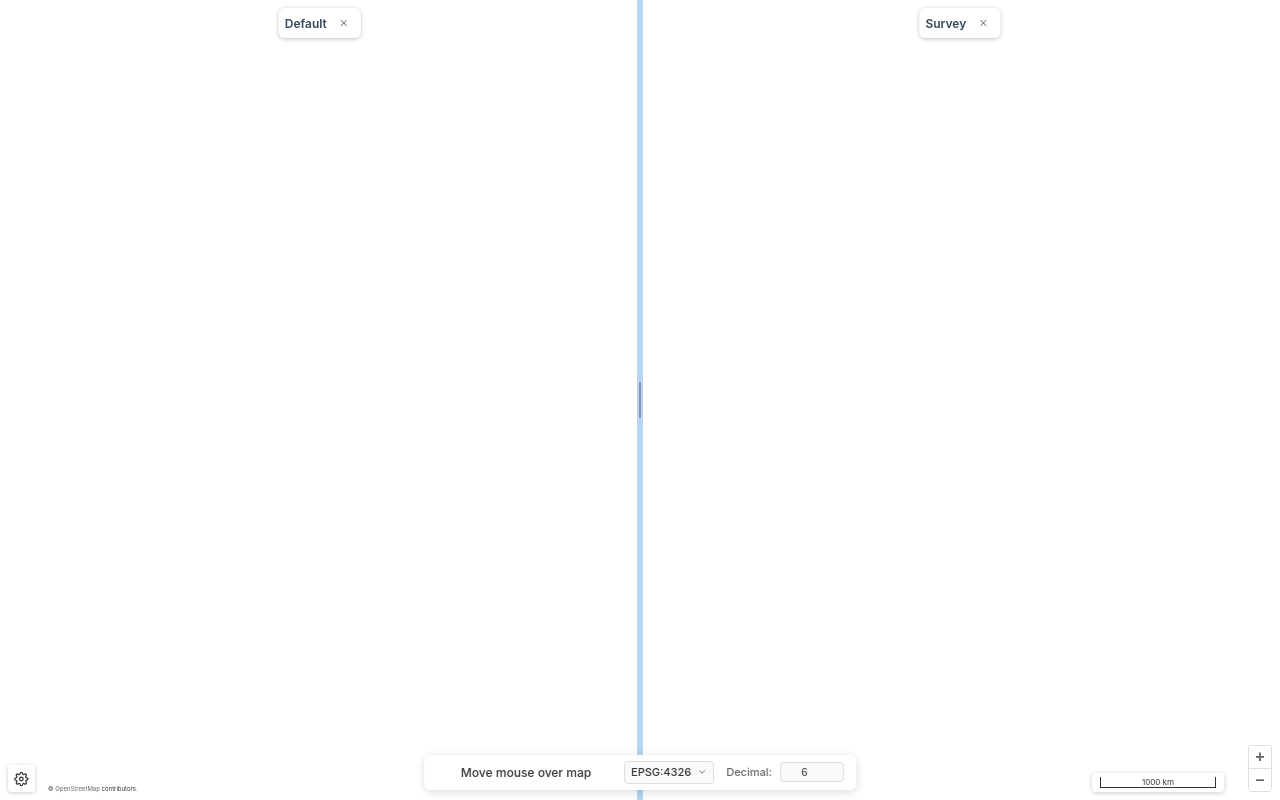
Test: split base settings toggles update the URL only — workspaces untouched
Click the button named "Split view settings" at (21, 779), box [8,765,35,792]
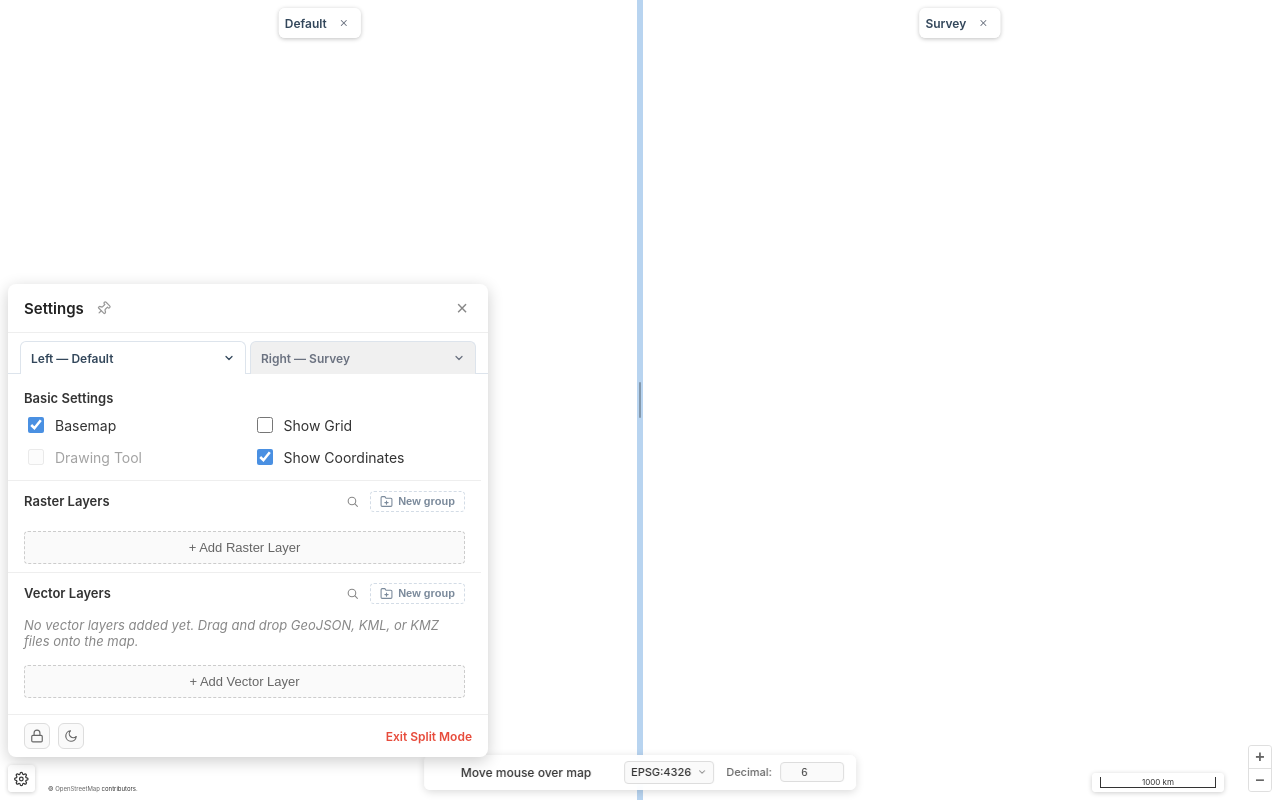
Click the checkbox with id "basemap-toggle" at (36, 425), box [28,417,44,433]
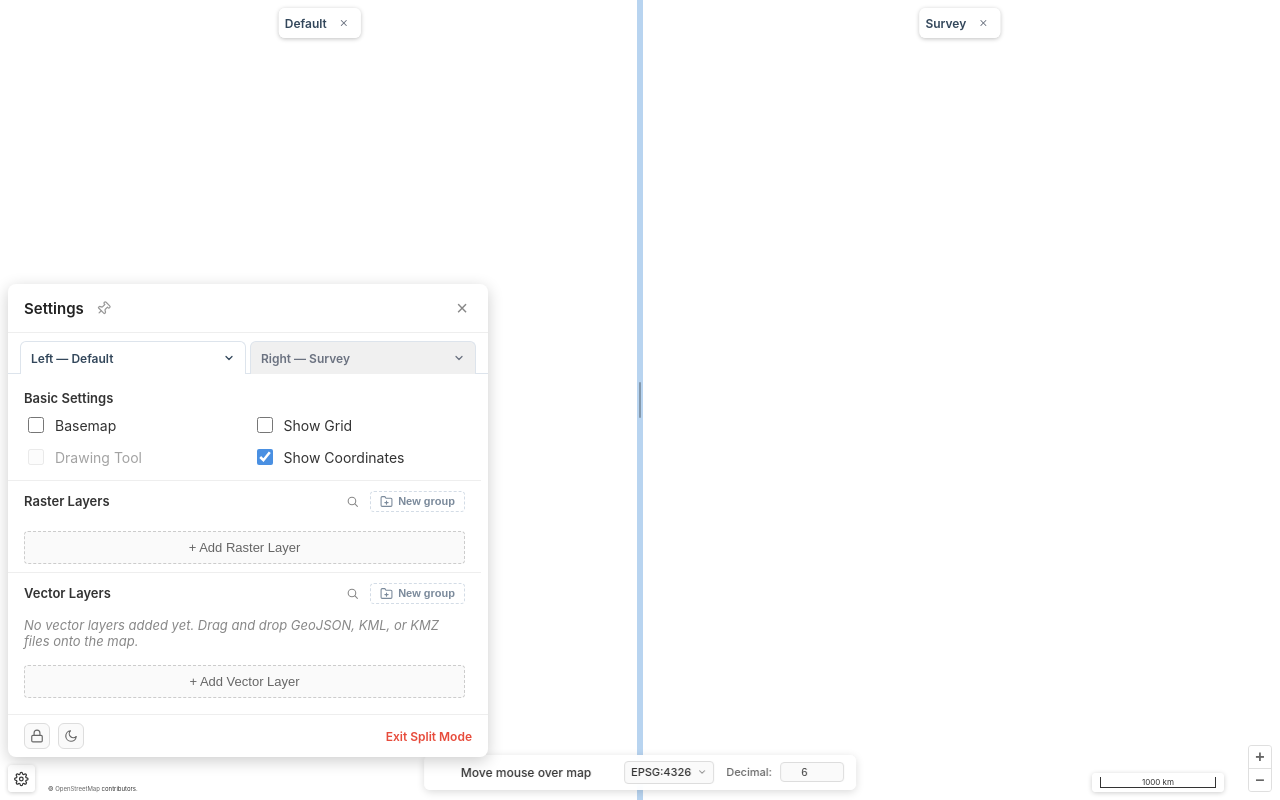
Click the checkbox with id "grid-toggle" at (264, 425), box [256,417,272,433]
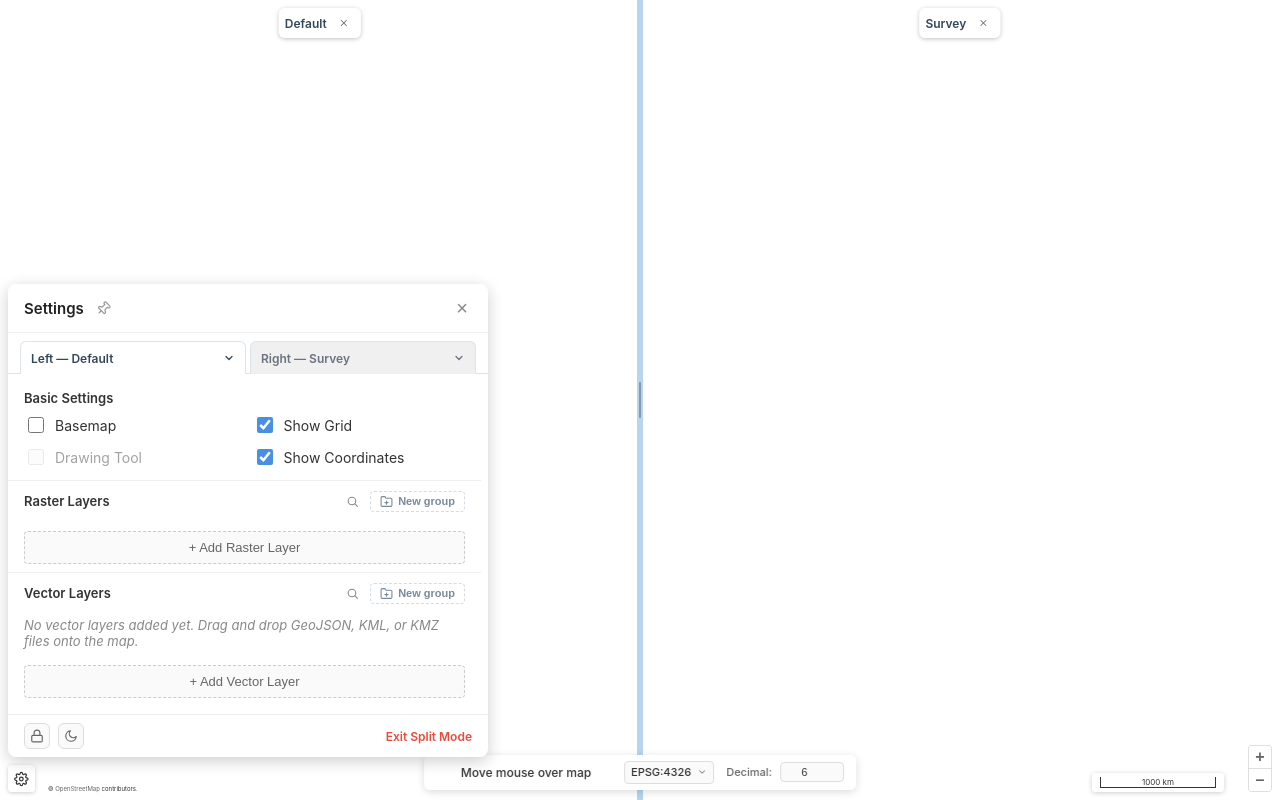
Click the checkbox with id "coordinates-toggle" at (264, 457), box [256,449,272,465]
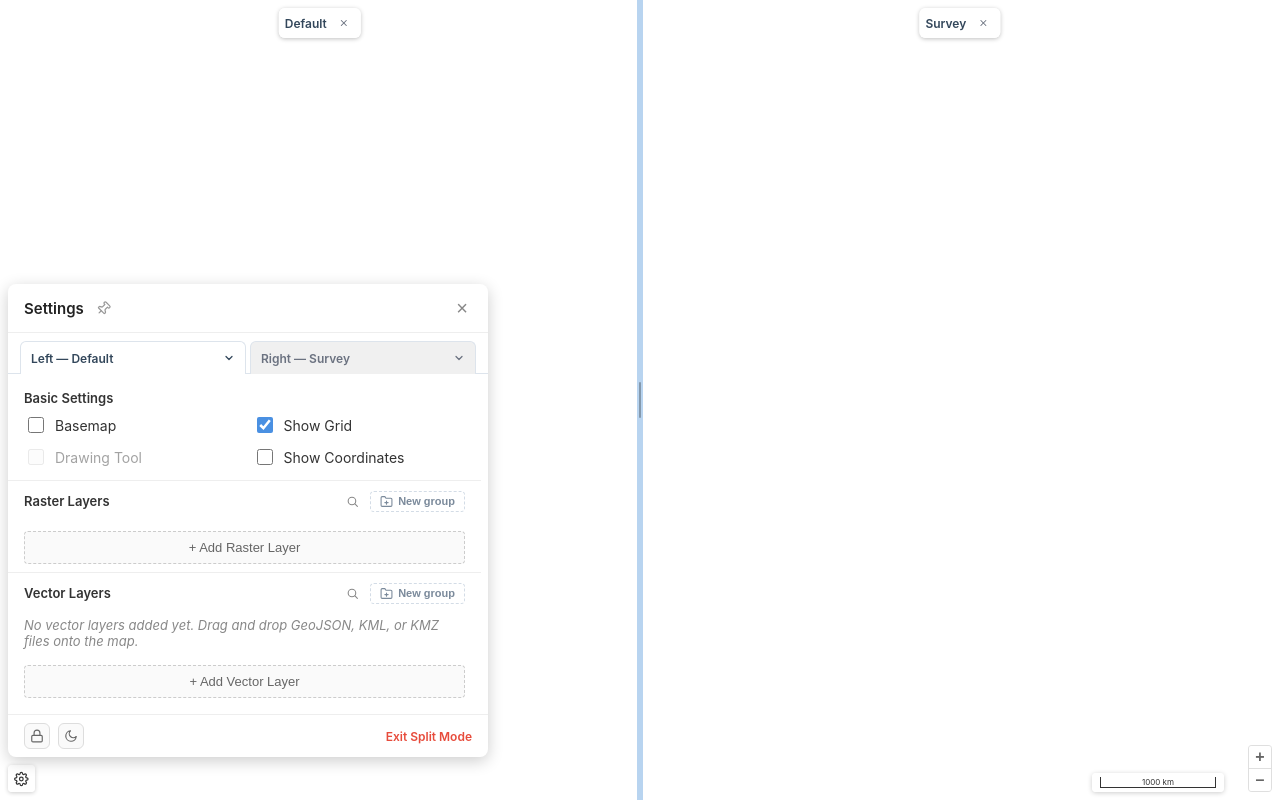
Expected: the element with class "mouse-coordinate-display" is gone
